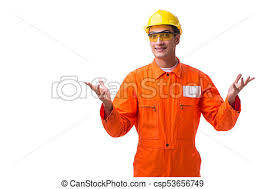Person_wearing_helmet: (142, 6, 184, 42)
